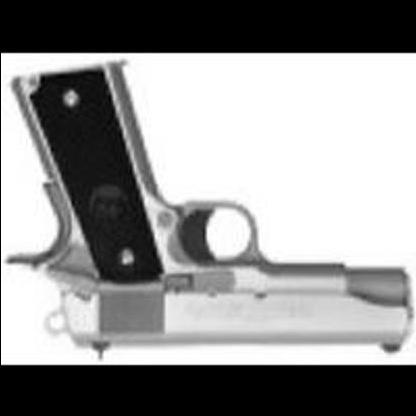weapon: (0, 57, 415, 359)
